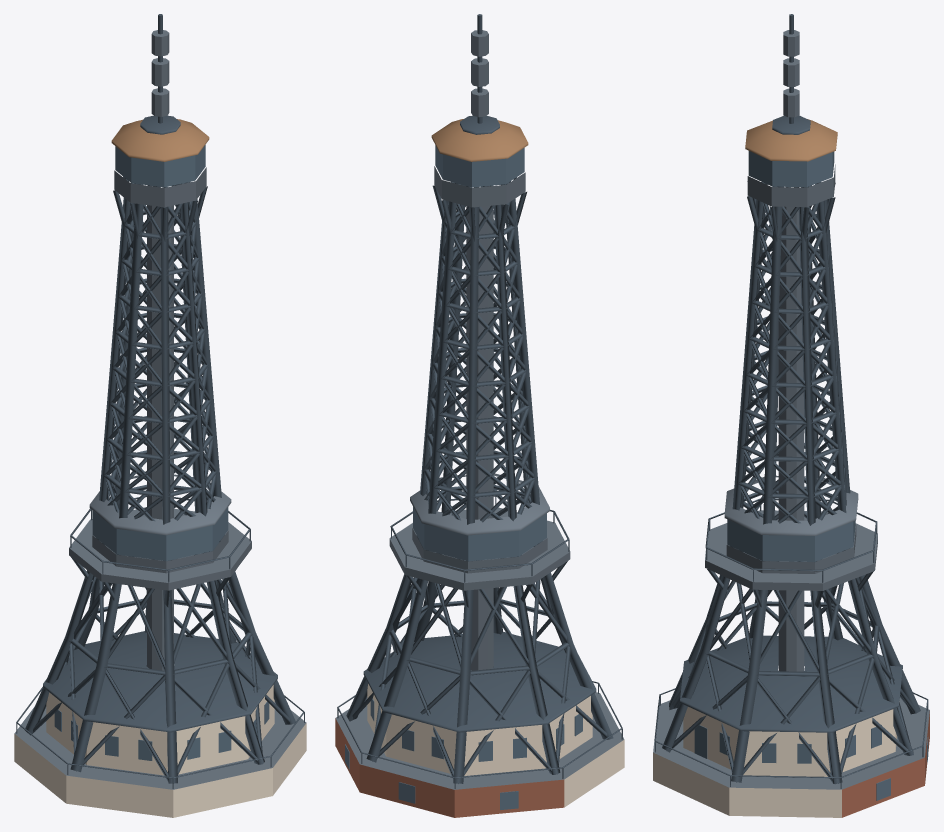
Rendered from prague-petrin-tower.glb.
3 renders of one model, left to right at view 1: azimuth 30°, elevation 25°; view 2: azimuth 150°, elevation 25°; view 3: azimuth 270°, elevation 25°, orthographic.
Parts seen in each view (by area): view 1: Petřín Lookout Tower; view 2: Petřín Lookout Tower; view 3: Petřín Lookout Tower.
Boxes of the visible parts, <box> form: Petřín Lookout Tower: <box>14,14,306,817</box>; Petřín Lookout Tower: <box>335,14,624,817</box>; Petřín Lookout Tower: <box>653,14,929,817</box>.
Bounding box in the file's own units: 23.12 × 68.6 × 23.12.
